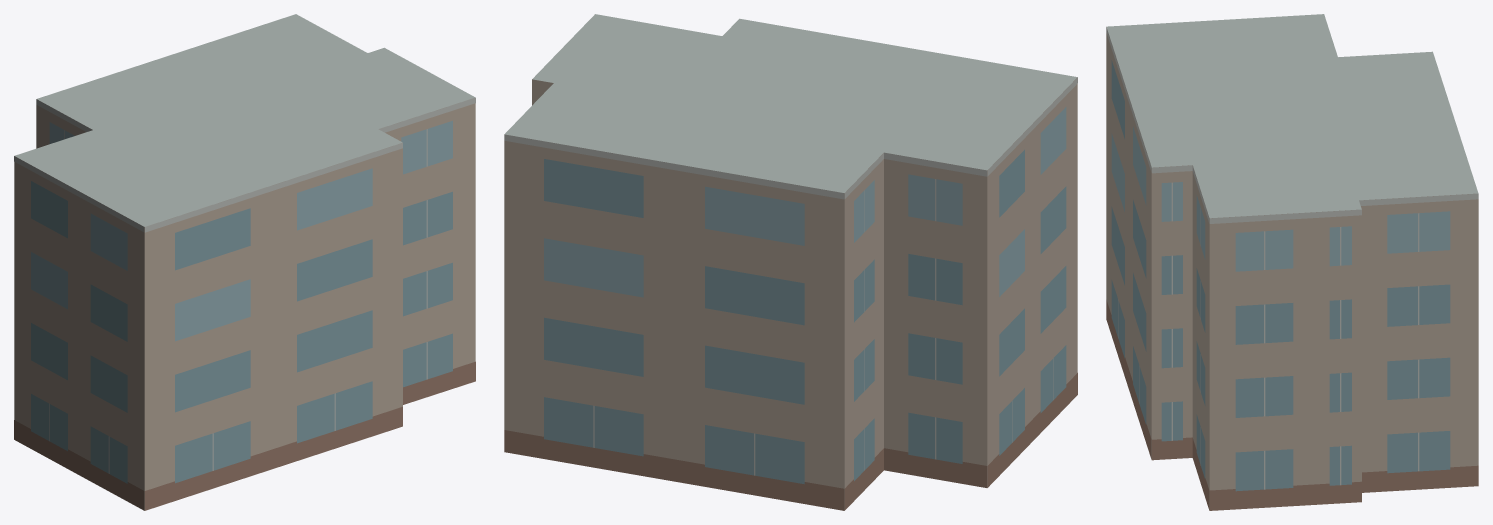
The model's file is residential-2156e910-97aa-44ec-ba0b-6ed6606bd28f.glb.
3 views of the same model, side by side, from view 1: azimuth 30°, elevation 25°; view 2: azimuth 150°, elevation 25°; view 3: azimuth 270°, elevation 25° (orthographic). The views are drawn at different scales.
Parts seen in each view (by area): view 1: residential-2156e910-97aa-44ec-ba0b-6ed6606bd28f.tmp; view 2: residential-2156e910-97aa-44ec-ba0b-6ed6606bd28f.tmp; view 3: residential-2156e910-97aa-44ec-ba0b-6ed6606bd28f.tmp.
Part boxes in pixels (x1,y1,x2,y2): residential-2156e910-97aa-44ec-ba0b-6ed6606bd28f.tmp: (14, 14, 475, 510); residential-2156e910-97aa-44ec-ba0b-6ed6606bd28f.tmp: (504, 14, 1077, 510); residential-2156e910-97aa-44ec-ba0b-6ed6606bd28f.tmp: (1106, 14, 1478, 510).
Bounding box in the file's own units: 18.27 × 12.2 × 14.07.
